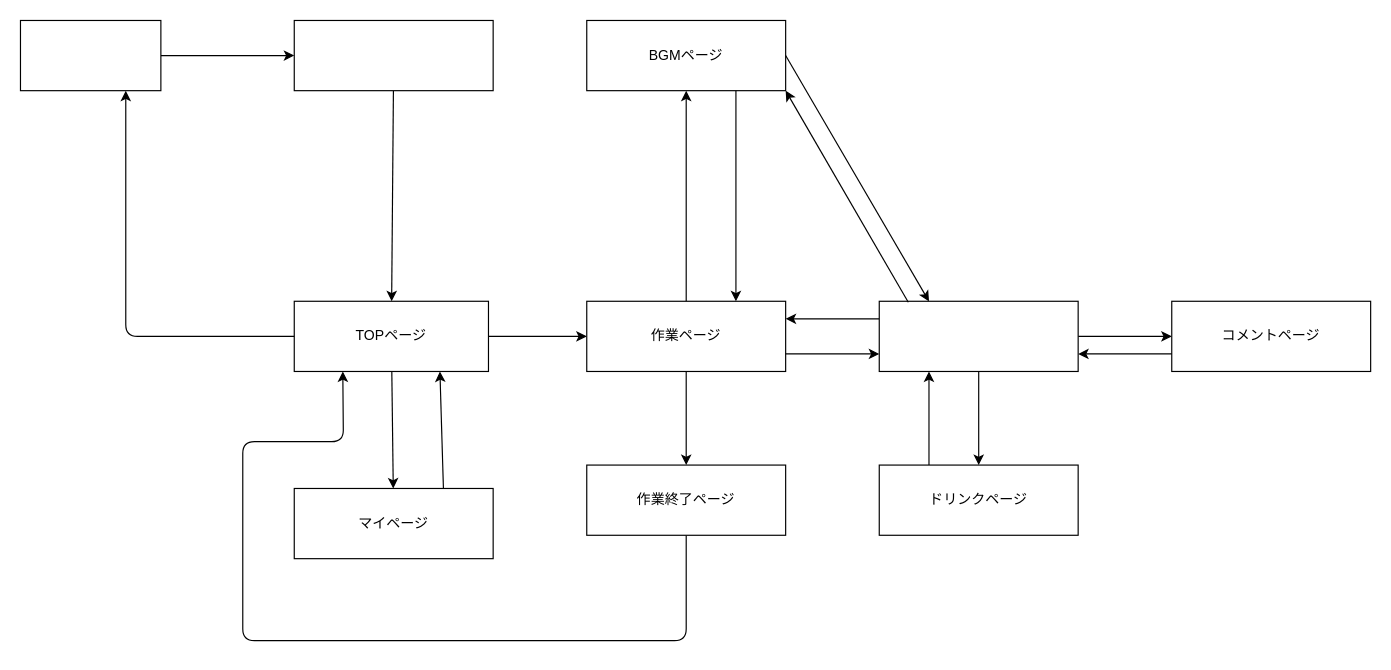
This 1391x670 diagram has some shape labels left out. Each missing label, with the box of its shape:
ブレークタイムページ: (878, 300, 1078, 371)
ログイン/サインイントップ: (19, 19, 161, 91)
ログイン/サインインページ: (293, 19, 493, 91)
